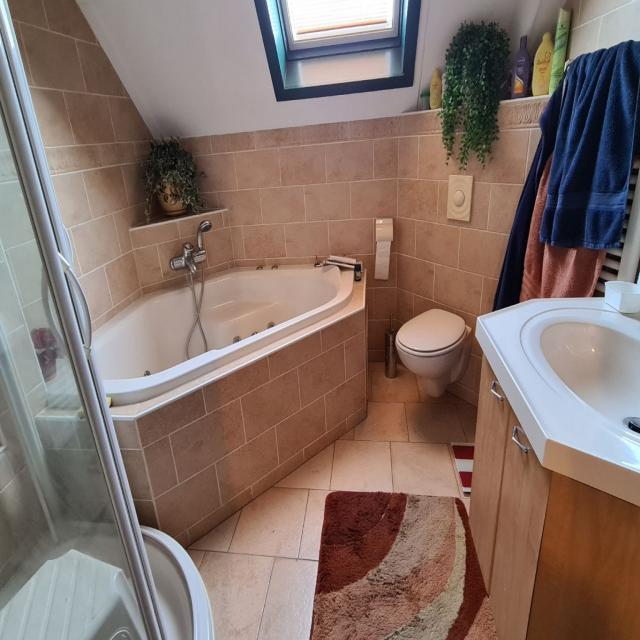bath: (45, 239, 356, 412)
designradiator: (564, 57, 640, 297)
douche: (0, 0, 214, 640)
toilet: (396, 173, 474, 399)
wastafel: (468, 349, 640, 640), (478, 294, 640, 474)
